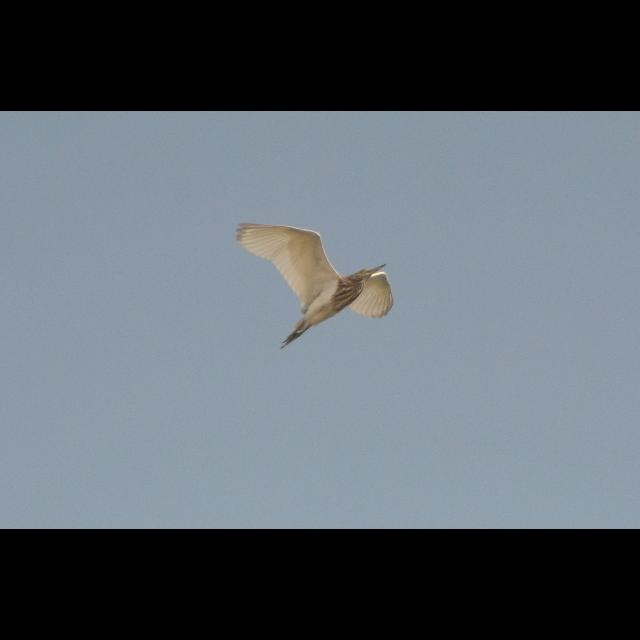heron: (228, 216, 404, 348)
